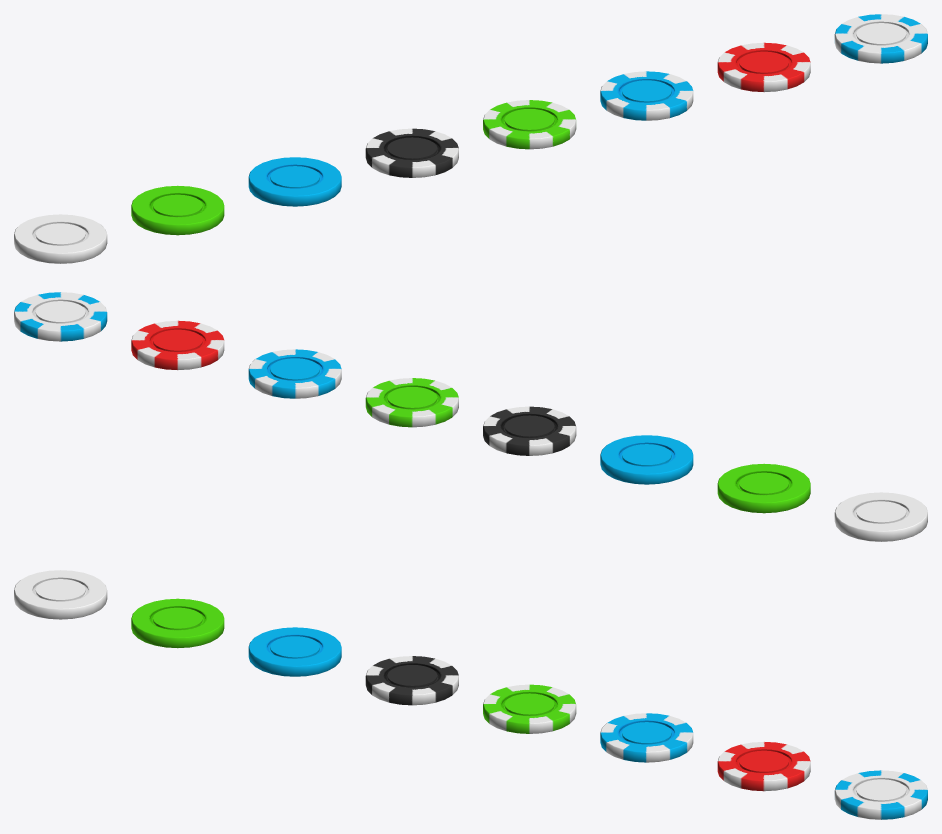
The model's file is PokerChips.fbx.
The picture shows the model from 3 angles, top to bottom: view 1: azimuth 30°, elevation 25°; view 2: azimuth 150°, elevation 25°; view 3: azimuth 330°, elevation 25°; orthographic projection.
Visible parts, largest first — view 1: BlueWhiteChip, BlueChip, WhiteblueChip, WhiteChip, GreemWhiteChip, BlackWhiteChip, RedWhiteChip, GreenChip; view 2: BlueWhiteChip, BlueChip, WhiteblueChip, WhiteChip, GreemWhiteChip, BlackWhiteChip, RedWhiteChip, GreenChip; view 3: BlueWhiteChip, BlueChip, WhiteblueChip, WhiteChip, GreemWhiteChip, BlackWhiteChip, RedWhiteChip, GreenChip.
Boxes of the visible parts, left/top/right/bottom form: BlueWhiteChip: left=600, top=71, right=693, bottom=120; BlueChip: left=248, top=157, right=341, bottom=206; WhiteblueChip: left=834, top=14, right=927, bottom=63; WhiteChip: left=14, top=214, right=107, bottom=263; GreemWhiteChip: left=483, top=100, right=576, bottom=149; BlackWhiteChip: left=365, top=128, right=458, bottom=177; RedWhiteChip: left=717, top=42, right=810, bottom=92; GreenChip: left=131, top=185, right=224, bottom=235; BlueWhiteChip: left=248, top=349, right=341, bottom=398; BlueChip: left=600, top=435, right=693, bottom=484; WhiteblueChip: left=14, top=292, right=107, bottom=341; WhiteChip: left=834, top=492, right=927, bottom=541; GreemWhiteChip: left=365, top=378, right=458, bottom=427; BlackWhiteChip: left=483, top=406, right=576, bottom=455; RedWhiteChip: left=131, top=320, right=224, bottom=370; GreenChip: left=717, top=463, right=810, bottom=513; BlueWhiteChip: left=600, top=713, right=693, bottom=762; BlueChip: left=248, top=627, right=341, bottom=676; WhiteblueChip: left=834, top=770, right=927, bottom=819; WhiteChip: left=14, top=570, right=107, bottom=619; GreemWhiteChip: left=483, top=684, right=576, bottom=733; BlackWhiteChip: left=365, top=656, right=458, bottom=705; RedWhiteChip: left=717, top=741, right=810, bottom=791; GreenChip: left=131, top=598, right=224, bottom=648.
Bounding box in the file's own units: 11.53 × 0.1298 × 1.03.
